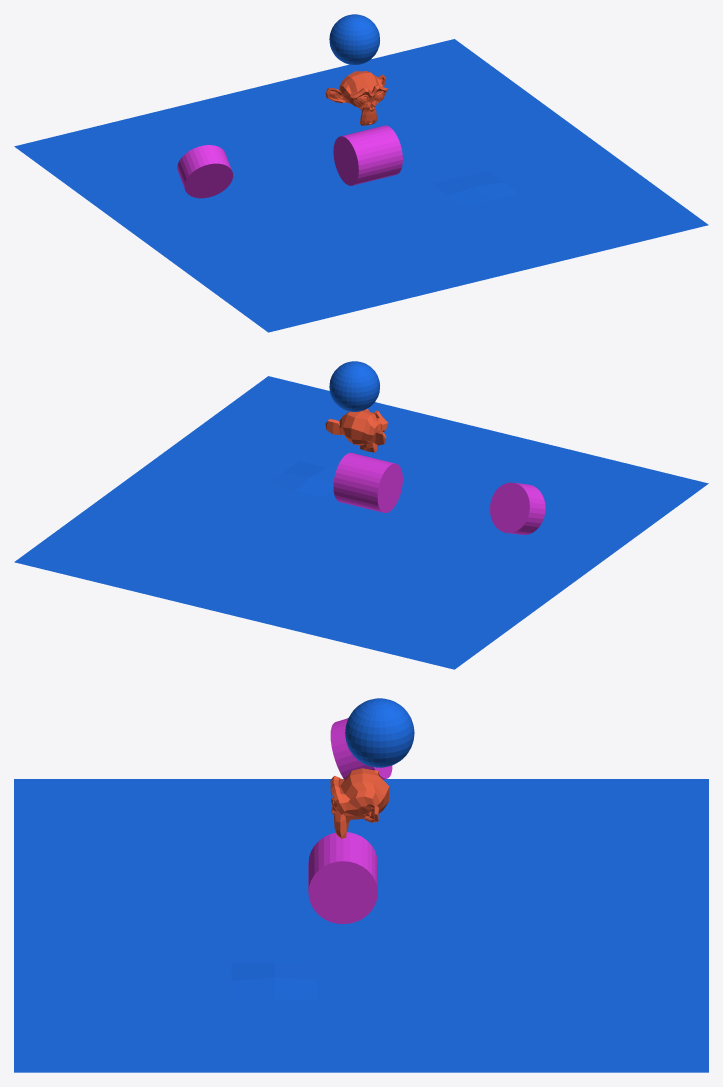
File: shapes.glb
The picture shows the model from 3 angles, top to bottom: view 1: azimuth 30°, elevation 25°; view 2: azimuth 150°, elevation 25°; view 3: azimuth 270°, elevation 25°; orthographic projection. The views are drawn at different scales.
Parts seen in each view (by area): view 1: (static) floor, (shape_cylinder) tail, (shape_cylinder) Wheel, (shape_sphere) head, (dynamic) com; view 2: (static) floor, (shape_cylinder) tail, (shape_cylinder) Wheel, (shape_sphere) head, (dynamic) com; view 3: (static) floor, (shape_cylinder) tail, (shape_sphere) head, (dynamic) com, (shape_cylinder) Wheel.
Part boxes in pixels (x1,y1,x2,y2): (static) floor: [14, 39, 708, 332]; (shape_cylinder) tail: [333, 125, 402, 185]; (shape_cylinder) Wheel: [177, 145, 233, 198]; (shape_sphere) head: [329, 14, 379, 64]; (dynamic) com: [325, 71, 388, 125]; (static) floor: [14, 376, 708, 669]; (shape_cylinder) tail: [333, 452, 402, 512]; (shape_cylinder) Wheel: [490, 482, 545, 534]; (shape_sphere) head: [329, 361, 379, 411]; (dynamic) com: [325, 408, 388, 452]; (static) floor: [14, 779, 708, 1072]; (shape_cylinder) tail: [308, 832, 377, 923]; (shape_sphere) head: [345, 698, 414, 767]; (dynamic) com: [330, 768, 389, 838]; (shape_cylinder) Wheel: [330, 718, 392, 779].
Bounding box in the file's own units: 20 × 7.12 × 20.
